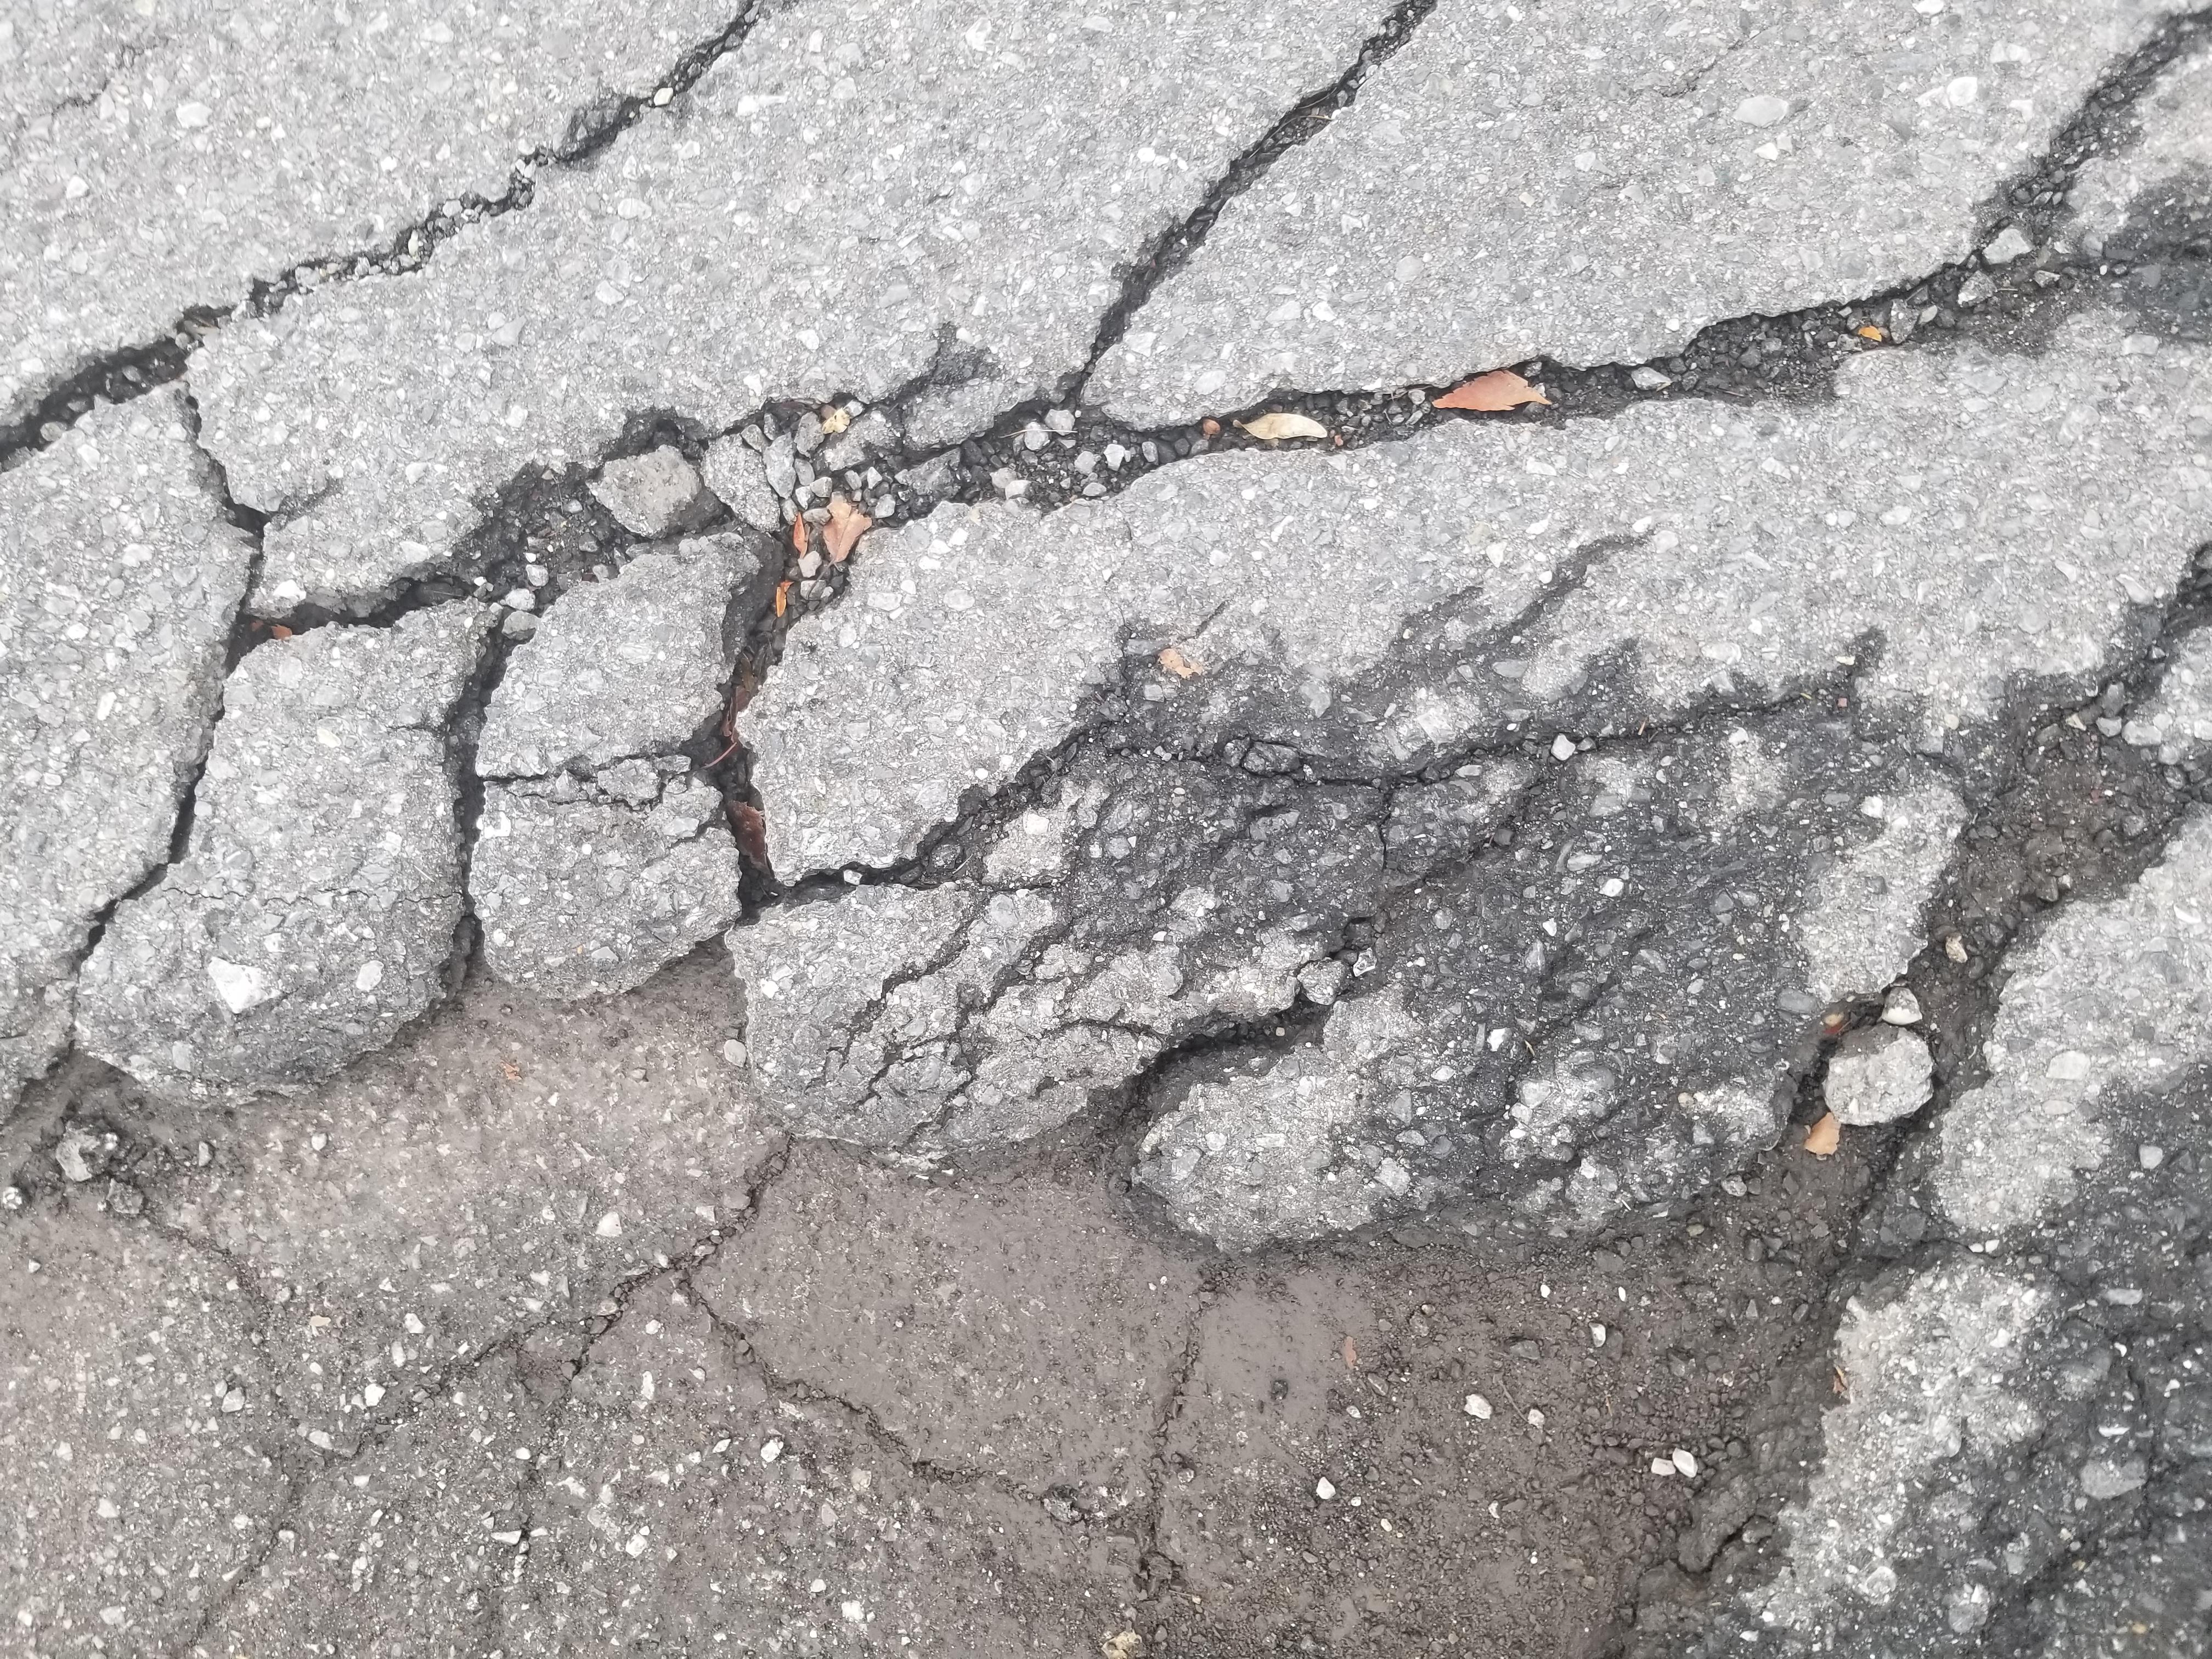alligator-crack: (9, 9, 2212, 1659)
